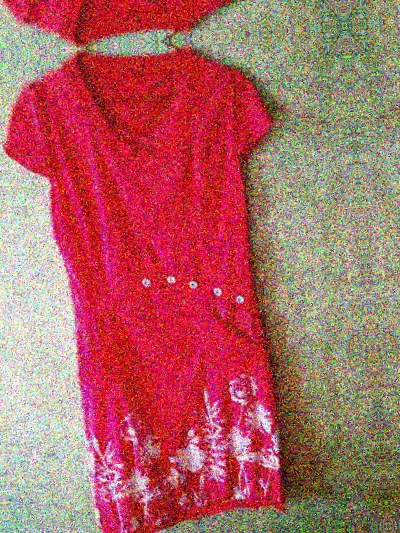Dress: (10, 29, 341, 533), (0, 0, 298, 54), (392, 0, 400, 516), (349, 0, 400, 21)
